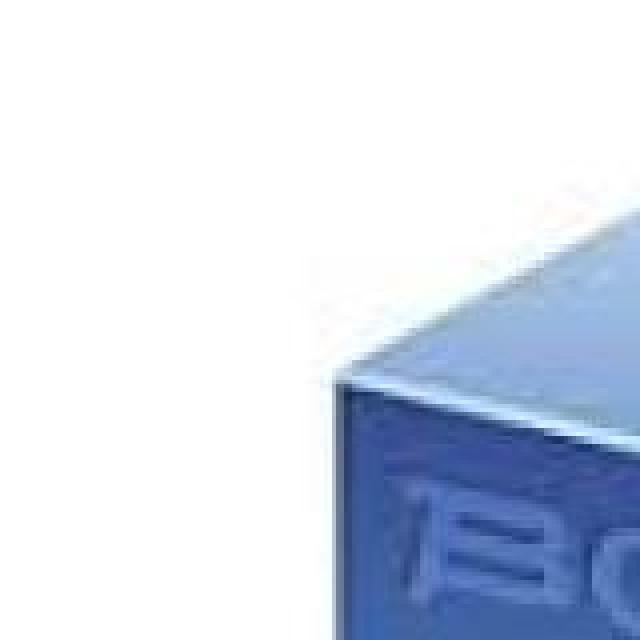potentiometer: (260, 184, 640, 640)
